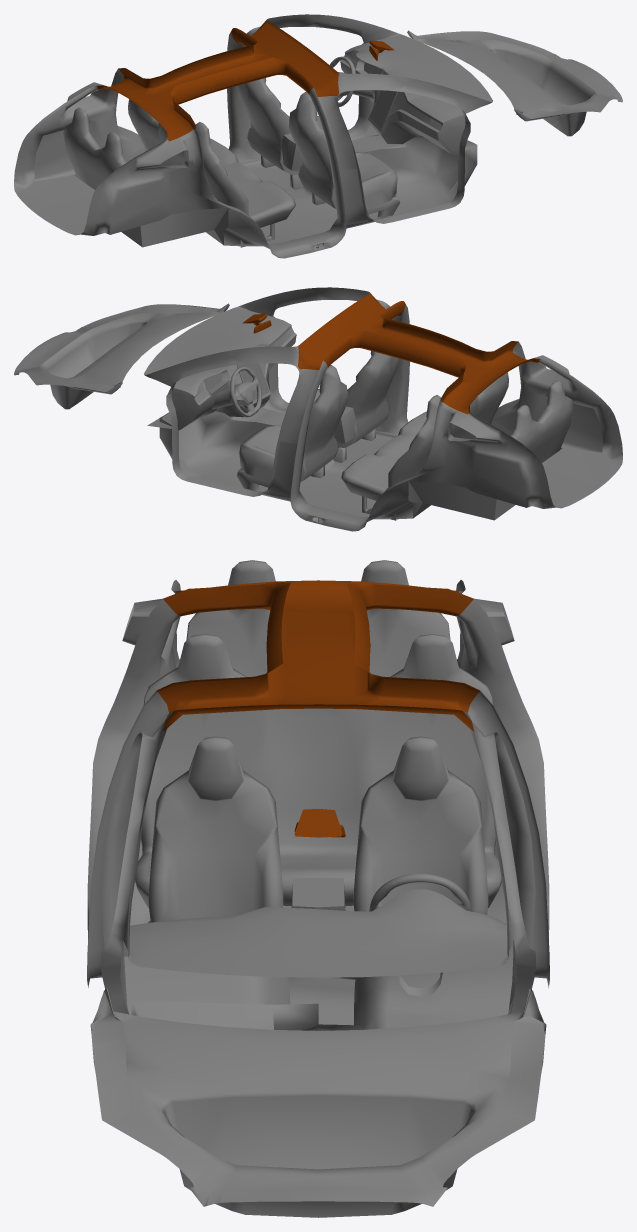
File: Interior_7_Seater.obj
The picture shows the model from 3 angles, top to bottom: view 1: azimuth 30°, elevation 25°; view 2: azimuth 150°, elevation 25°; view 3: azimuth 270°, elevation 25°; orthographic projection. The views are drawn at different scales.
Parts seen in each view (by area): view 1: Interior_7_Seater; view 2: Interior_7_Seater; view 3: Interior_7_Seater.
Part boxes in pixels (left/top/right/bottom): Interior_7_Seater: left=14, top=14, right=622, bottom=258; Interior_7_Seater: left=14, top=287, right=622, bottom=531; Interior_7_Seater: left=87, top=560, right=549, bottom=1217.
Bounding box in the file's own units: 4.9 × 1.31 × 1.75.
